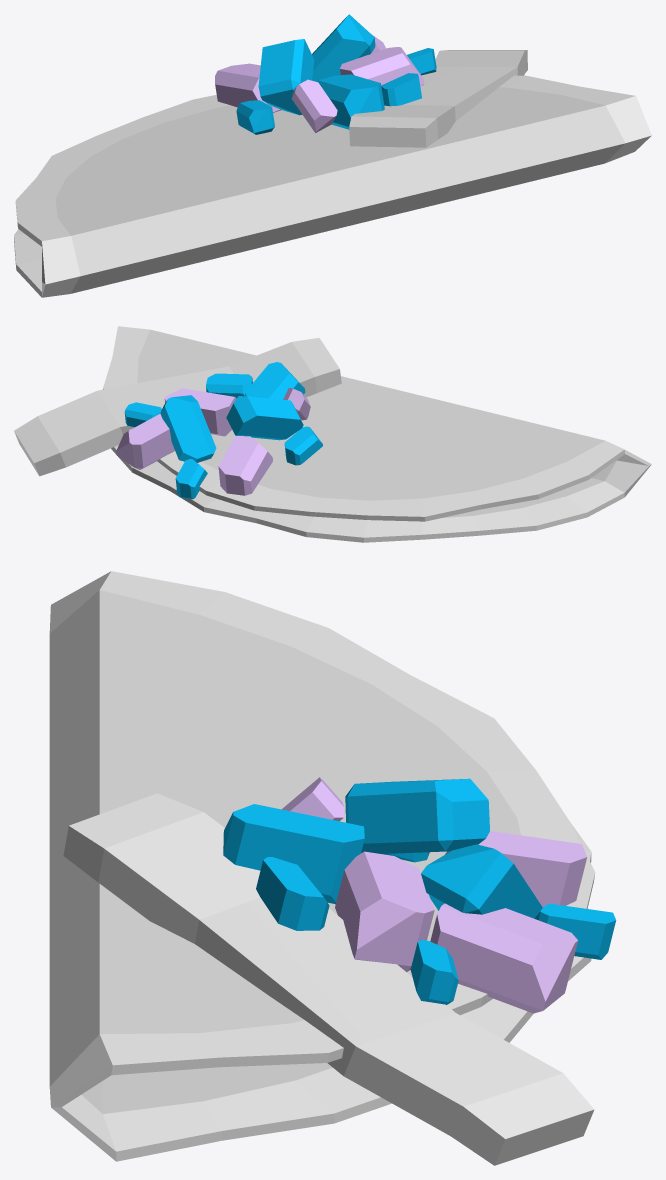
Rendered from Bacon Cheese Omelette.fbx.
3 views of the same model, one above another, from view 1: azimuth 30°, elevation 25°; view 2: azimuth 150°, elevation 25°; view 3: azimuth 270°, elevation 25° (orthographic). The views are drawn at different scales.
Visible parts, largest first — view 1: Folded Omelette, Cheese, Bacon Portion.002; view 2: Folded Omelette, Cheese, Bacon Portion.002; view 3: Folded Omelette, Cheese, Bacon Portion.002.
Part boxes in pixels (box(x1,y1,x2,y2)): Folded Omelette: box(14, 75, 651, 297); Cheese: box(215, 14, 436, 134); Bacon Portion.002: box(349, 50, 527, 147); Folded Omelette: box(103, 326, 651, 542); Cheese: box(116, 362, 322, 499); Bacon Portion.002: box(14, 338, 341, 476); Folded Omelette: box(49, 571, 595, 1161); Cheese: box(223, 777, 616, 1013); Bacon Portion.002: box(63, 793, 594, 1165).
Size of the model in its own units: 62.84 by 10.81 by 29.4.
